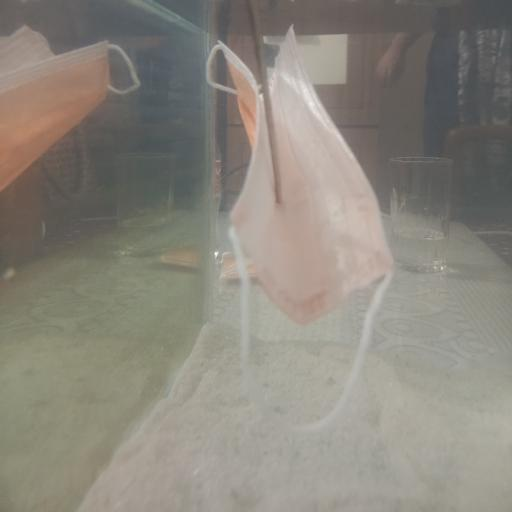mask: (200, 20, 412, 408), (4, 14, 146, 208)
